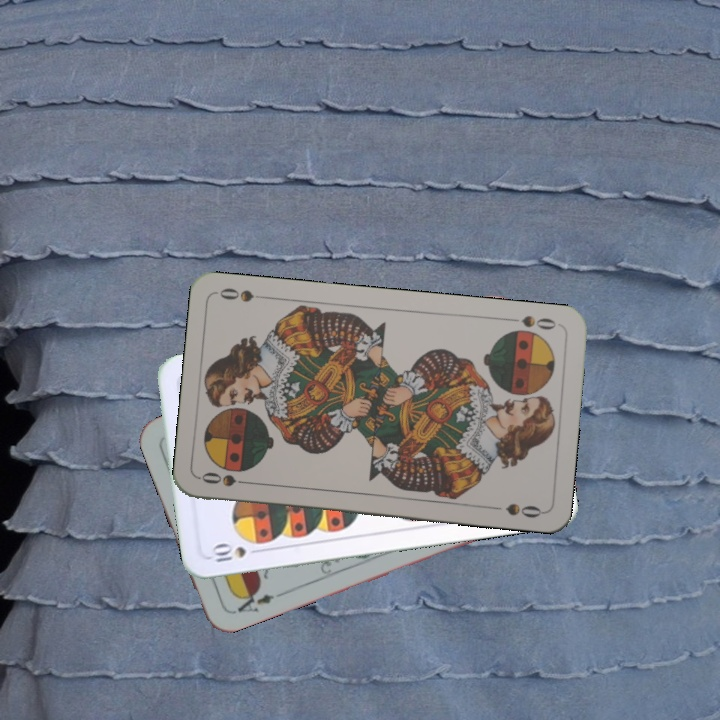EA: (227, 584, 277, 617)
S10: (206, 541, 249, 565)
SO: (197, 468, 256, 489), (503, 311, 559, 333)
